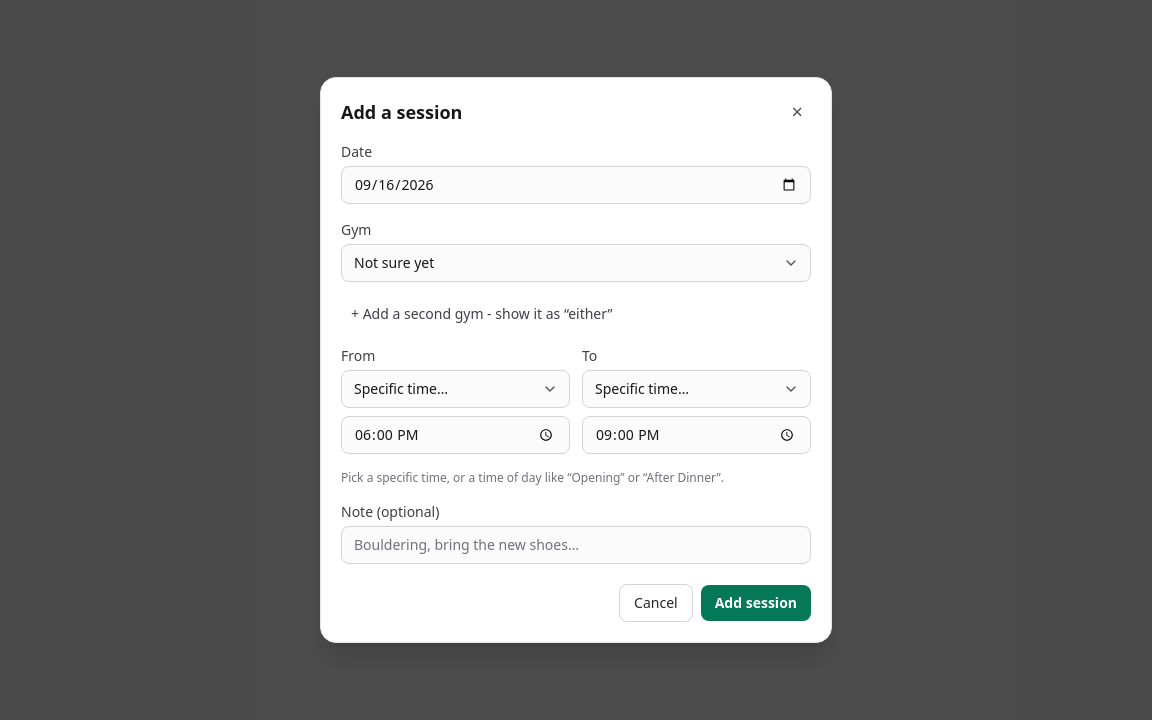
Test: <SessionFormModal /> › refuses the same gym twice
Select "Boulder Space" in the dropdown labelled "Gym": (576, 263) [341,244,811,282]
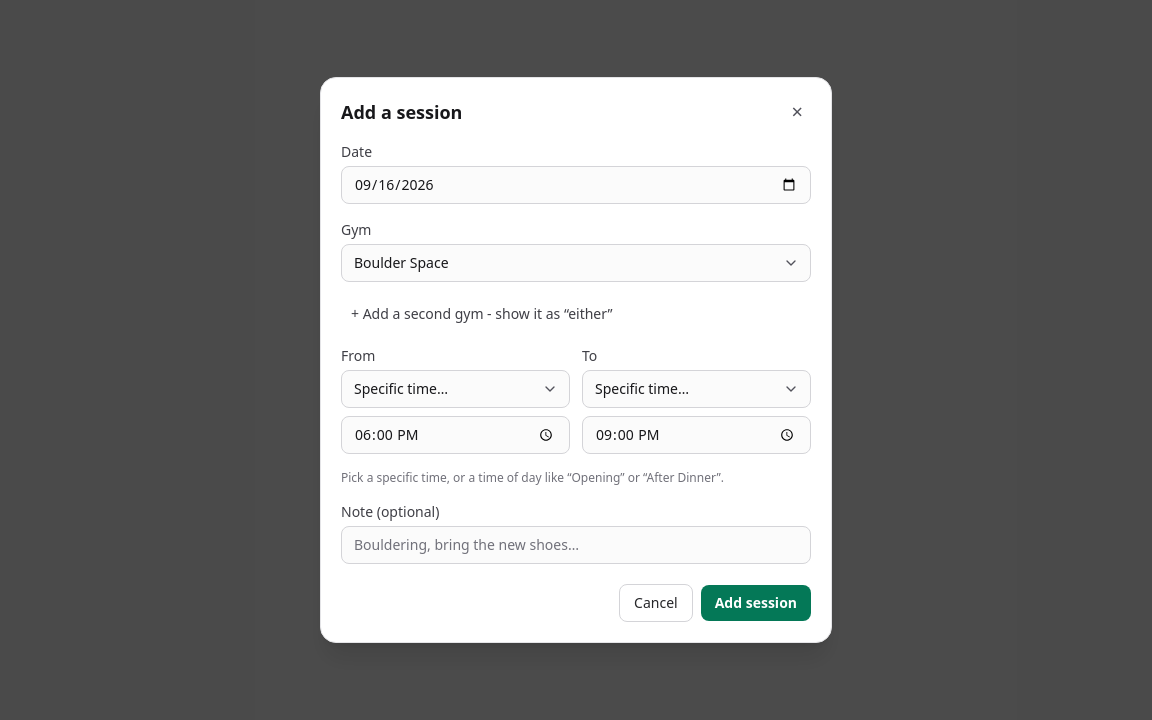
Click the button "+ Add a second gym - show it as “either”": (482, 314) [341,298,623,330]
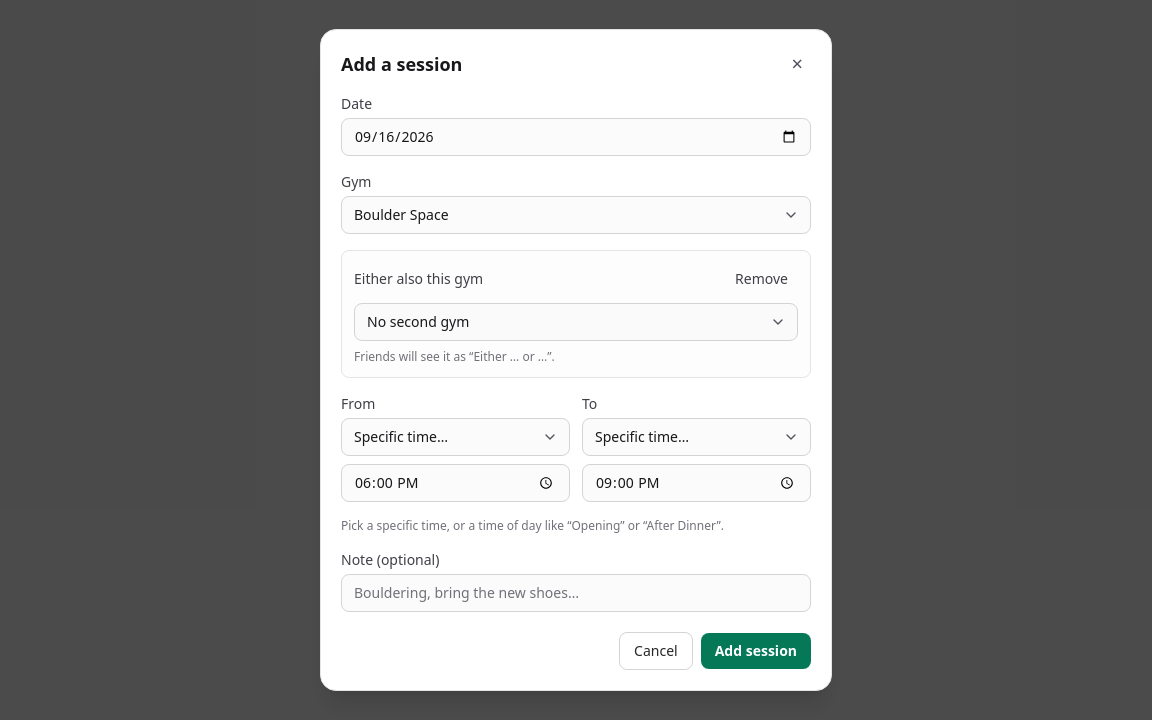
Select "Boulder Space" in the dropdown named "Second gym": (576, 322) [354,303,798,341]
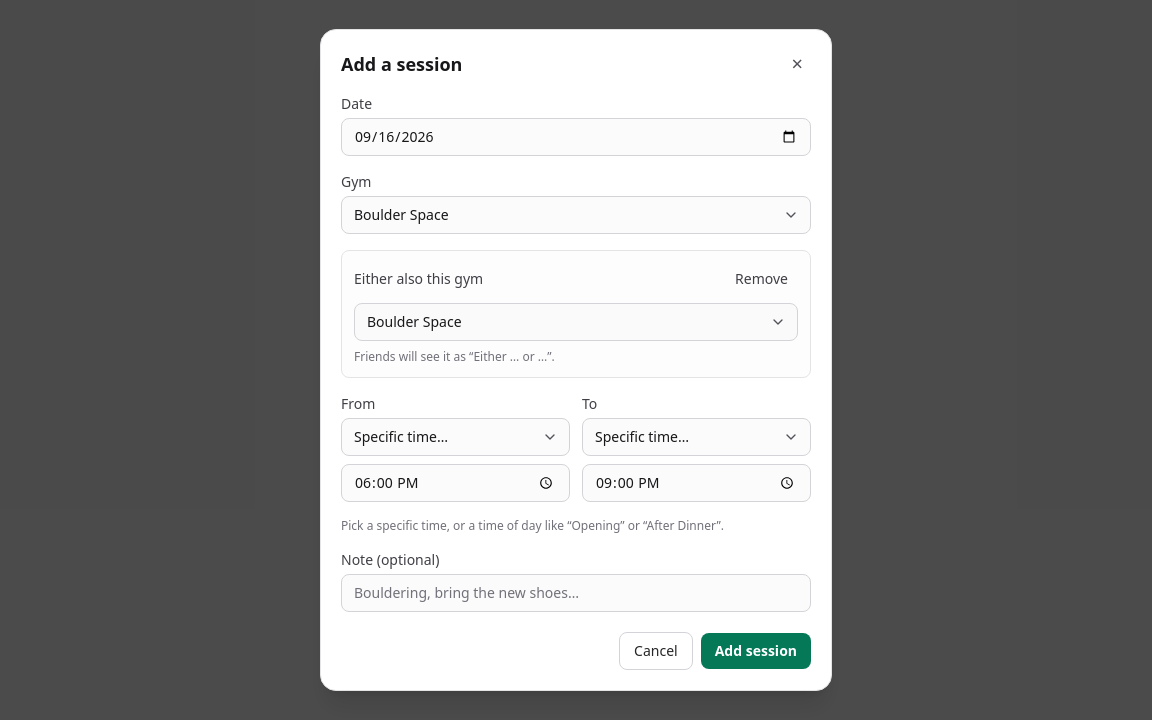
Click the button "Add session": (756, 651) [701,633,811,669]
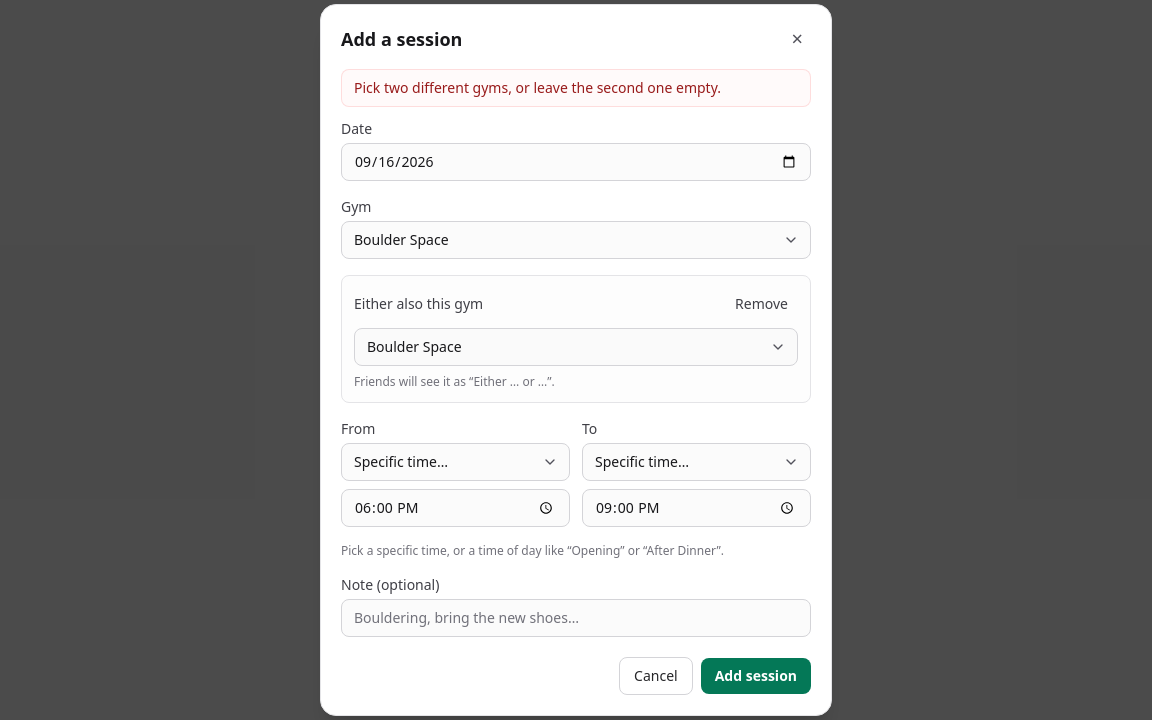
expect the text "Pick two different gyms, or leave the second one empty." is shown: met, box [354,78,721,98]
